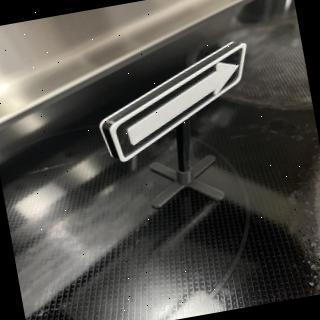sign_oneway_right: (89, 38, 266, 168)
